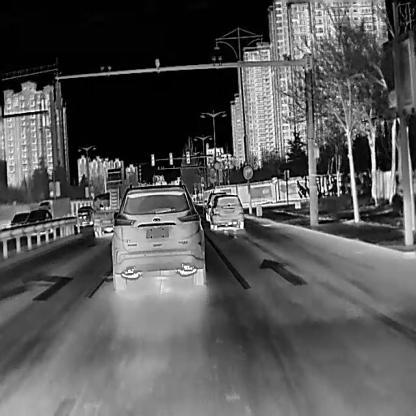car: (110, 180, 205, 289), (92, 186, 120, 237), (207, 192, 243, 230), (37, 196, 72, 222), (24, 208, 54, 236), (8, 212, 29, 233), (75, 205, 92, 226)
